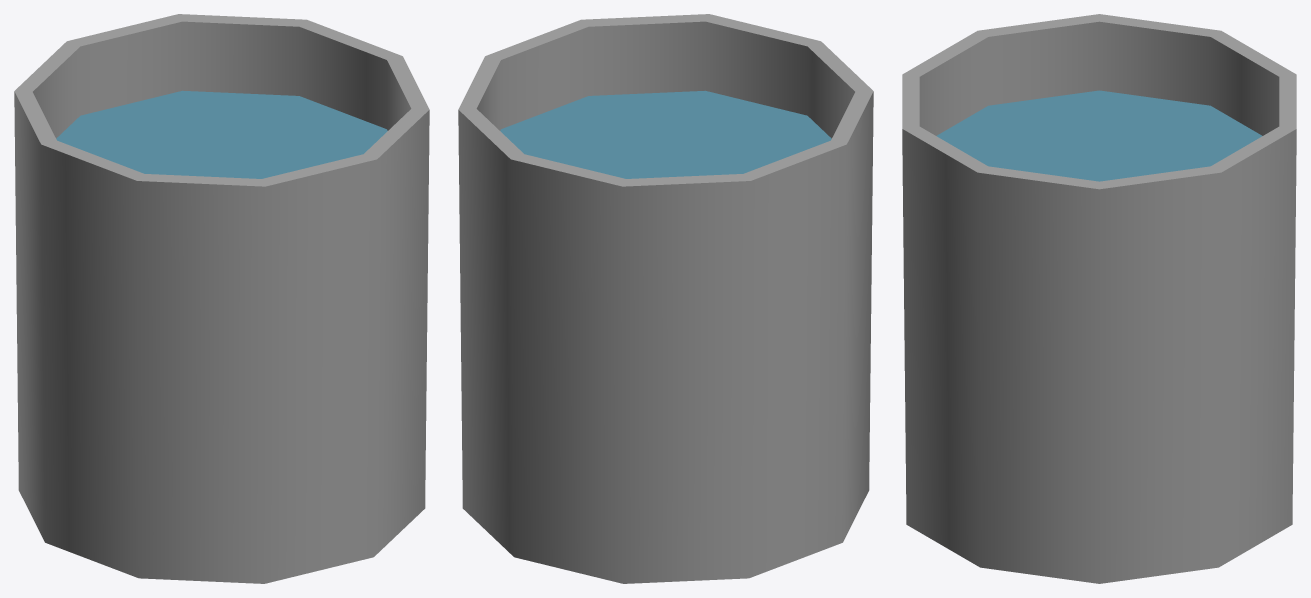
Rendered from breaker.fbx.
The picture shows the model from 3 angles, left to right: view 1: azimuth 30°, elevation 25°; view 2: azimuth 150°, elevation 25°; view 3: azimuth 270°, elevation 25°; orthographic projection.
Parts seen in each view (by area): view 1: polySurface30, polySurface31; view 2: polySurface30, polySurface31; view 3: polySurface30, polySurface31.
Boxes of the visible parts, left/top/right/bottom form: polySurface30: left=14, top=14, right=429, bottom=583; polySurface31: left=56, top=90, right=387, bottom=178; polySurface30: left=458, top=14, right=873, bottom=583; polySurface31: left=500, top=90, right=831, bottom=178; polySurface30: left=902, top=14, right=1296, bottom=583; polySurface31: left=936, top=90, right=1262, bottom=181.
Size of the model in its own units: 22.85 by 24.1 by 21.73.
